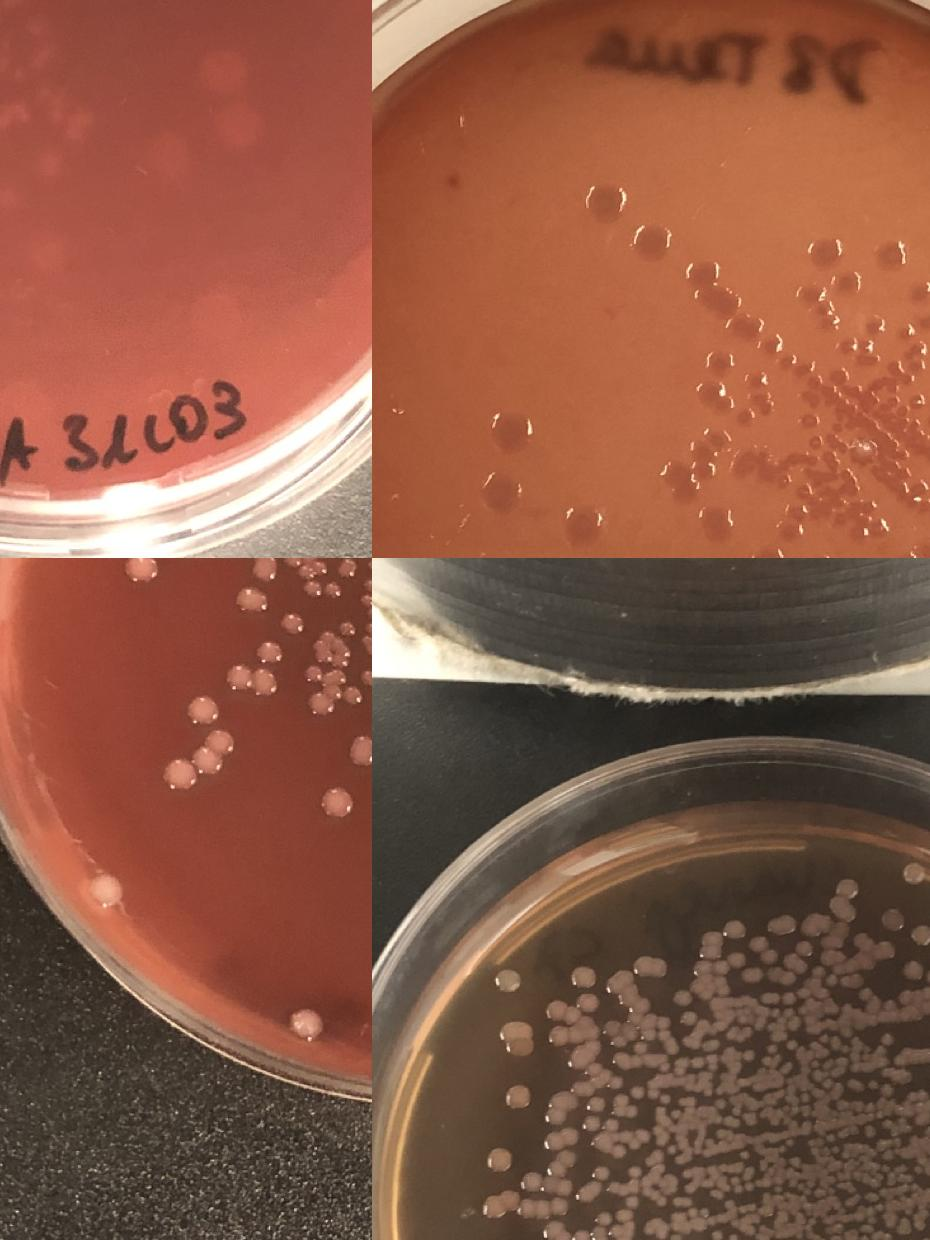pddamselae: (307, 647, 365, 717), (192, 729, 234, 774), (223, 662, 276, 697), (284, 558, 330, 580), (322, 789, 350, 817), (166, 761, 194, 789), (187, 697, 215, 725), (235, 590, 263, 618), (249, 558, 277, 584), (347, 736, 372, 763), (126, 558, 154, 580), (280, 612, 304, 636), (335, 558, 359, 580), (302, 582, 322, 602), (324, 580, 344, 600), (305, 665, 324, 685), (338, 620, 356, 638), (259, 644, 276, 662)
tmaritimum: (696, 348, 735, 413), (196, 48, 242, 98), (188, 292, 234, 340), (214, 102, 260, 150), (148, 130, 193, 177), (691, 428, 730, 482), (0, 380, 44, 427), (483, 470, 523, 512), (492, 410, 532, 450), (632, 222, 672, 262), (563, 505, 602, 545), (857, 314, 888, 364), (588, 181, 626, 221), (870, 236, 908, 274), (806, 234, 844, 272), (662, 462, 696, 502), (700, 502, 732, 538), (778, 503, 808, 541), (32, 151, 64, 183), (888, 534, 930, 558), (688, 256, 718, 288), (831, 268, 861, 298), (732, 312, 762, 341), (0, 181, 24, 213), (907, 479, 930, 511), (817, 300, 840, 332), (713, 290, 741, 316), (905, 276, 930, 305), (754, 391, 778, 417), (905, 359, 928, 386), (748, 541, 784, 558), (802, 361, 822, 388), (848, 523, 872, 545), (841, 469, 861, 495), (798, 388, 822, 409), (69, 112, 89, 132), (26, 16, 46, 36), (806, 434, 824, 451), (794, 484, 812, 500), (738, 410, 756, 426), (909, 394, 927, 410), (749, 372, 767, 388), (780, 354, 798, 370), (839, 338, 857, 354), (896, 324, 914, 340), (829, 439, 848, 454), (874, 518, 889, 536), (820, 451, 838, 466), (801, 413, 818, 428), (775, 474, 793, 488), (910, 342, 928, 356), (764, 338, 782, 352), (832, 370, 848, 384), (886, 394, 900, 408), (848, 382, 862, 396), (858, 442, 871, 456), (889, 361, 903, 374), (2, 0, 22, 8)
vharveyi: (544, 1126, 580, 1167), (726, 950, 764, 986), (745, 932, 780, 967), (482, 1188, 519, 1220), (672, 988, 699, 1028), (591, 1207, 635, 1226), (487, 1146, 513, 1174), (505, 1085, 532, 1111), (833, 876, 860, 902), (495, 967, 521, 993), (572, 964, 598, 990), (722, 916, 748, 942), (880, 907, 906, 933), (901, 861, 927, 887), (633, 957, 667, 976), (908, 922, 930, 948), (792, 938, 817, 958), (600, 1018, 624, 1038), (824, 1132, 841, 1156), (548, 1197, 568, 1217), (522, 1171, 542, 1191), (609, 1143, 629, 1163), (777, 1136, 797, 1156), (546, 1106, 566, 1126), (628, 1083, 648, 1103), (548, 1026, 568, 1046), (546, 1001, 566, 1021), (580, 994, 600, 1014), (902, 960, 922, 980), (876, 940, 896, 960), (625, 1161, 644, 1181), (590, 1164, 610, 1182), (706, 1232, 741, 1240), (744, 1046, 756, 1064), (729, 1104, 743, 1118), (867, 1076, 879, 1092), (863, 1124, 875, 1139), (710, 1228, 724, 1240), (911, 1164, 923, 1178), (737, 1149, 751, 1161), (714, 1127, 728, 1139), (669, 1108, 683, 1120), (713, 1098, 727, 1110), (658, 1092, 672, 1104), (765, 1044, 779, 1056), (785, 1039, 799, 1051), (818, 1032, 830, 1046), (882, 1032, 894, 1046), (873, 1200, 885, 1212), (772, 1184, 784, 1196), (744, 1181, 756, 1193), (798, 1092, 810, 1104), (822, 1078, 834, 1090), (809, 1058, 821, 1070), (840, 1044, 852, 1056), (669, 1233, 683, 1240), (859, 1232, 871, 1240)
